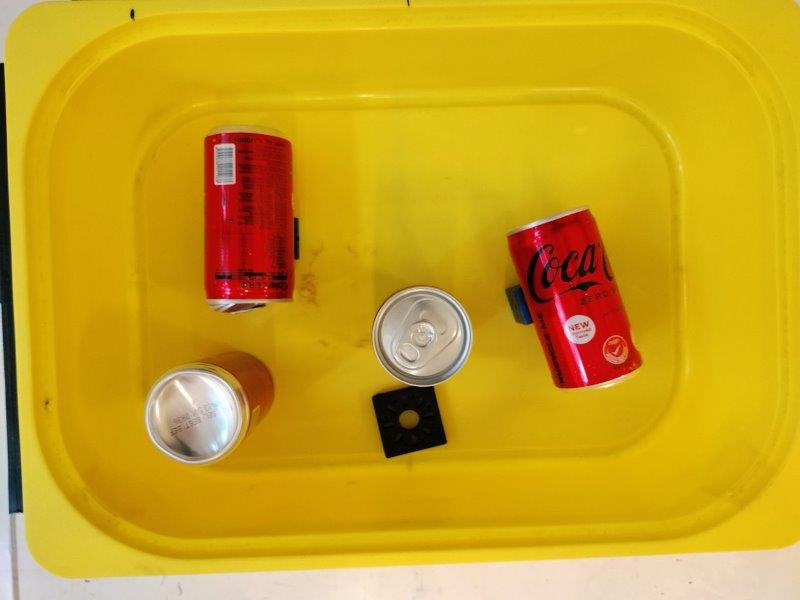Coke: (507, 209, 644, 391), (204, 128, 295, 305), (146, 350, 276, 463), (372, 286, 474, 387)
